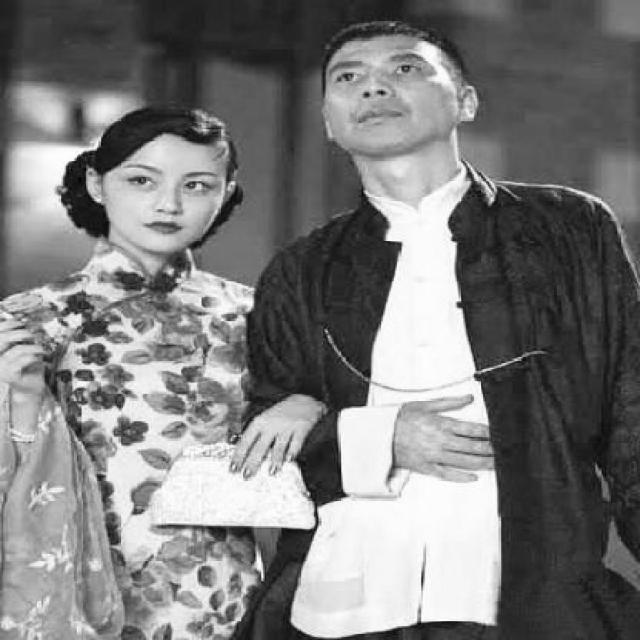face_nomask: (332, 48, 434, 154), (112, 150, 211, 244)
hand_noglove: (390, 394, 512, 486), (231, 394, 326, 483), (0, 314, 54, 397)
head_nohelmet: (113, 98, 224, 157), (318, 24, 456, 48)
person: (276, 17, 636, 640), (14, 91, 274, 640)
